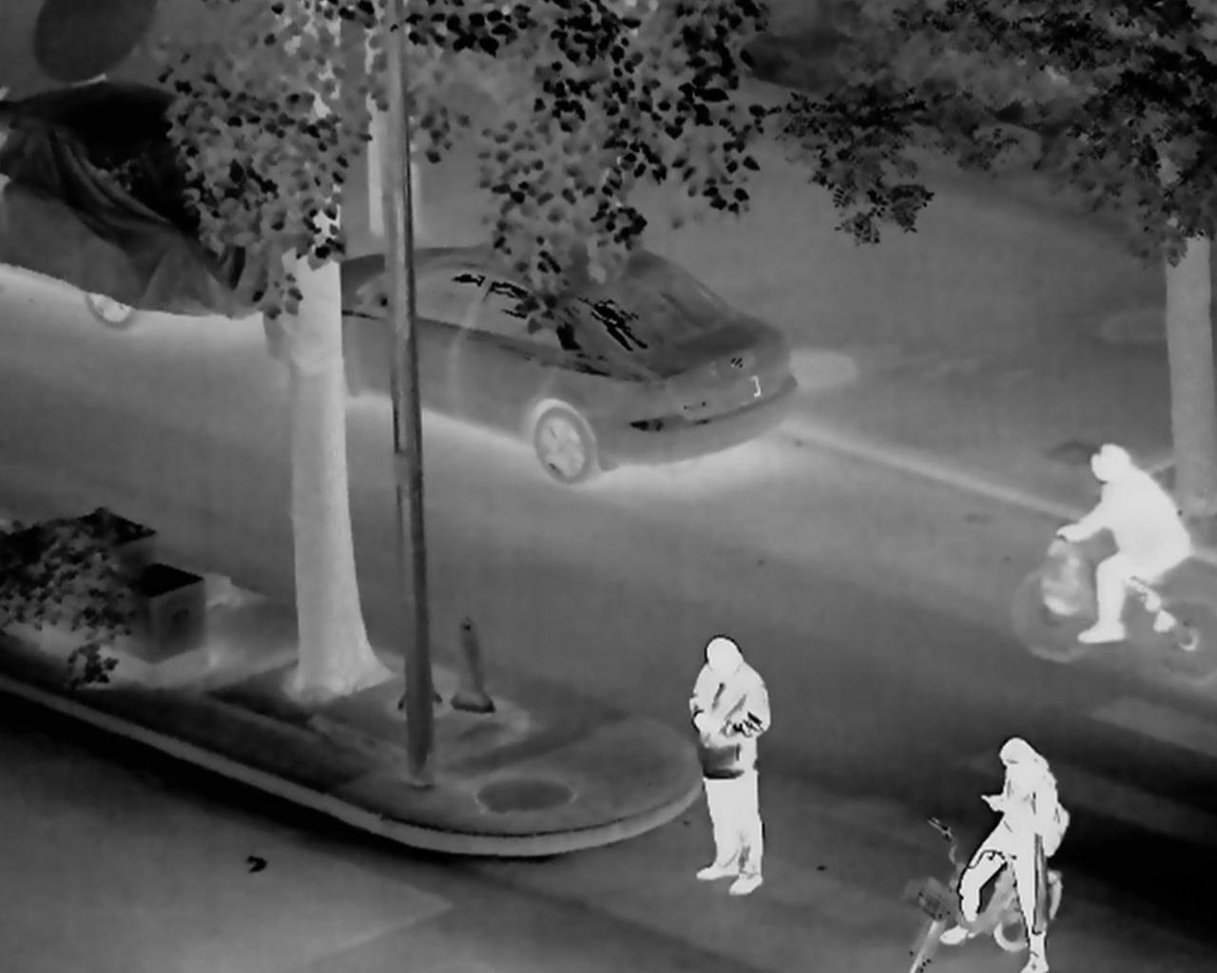person: (938, 737, 1059, 973), (1057, 446, 1190, 644), (688, 638, 772, 897)
